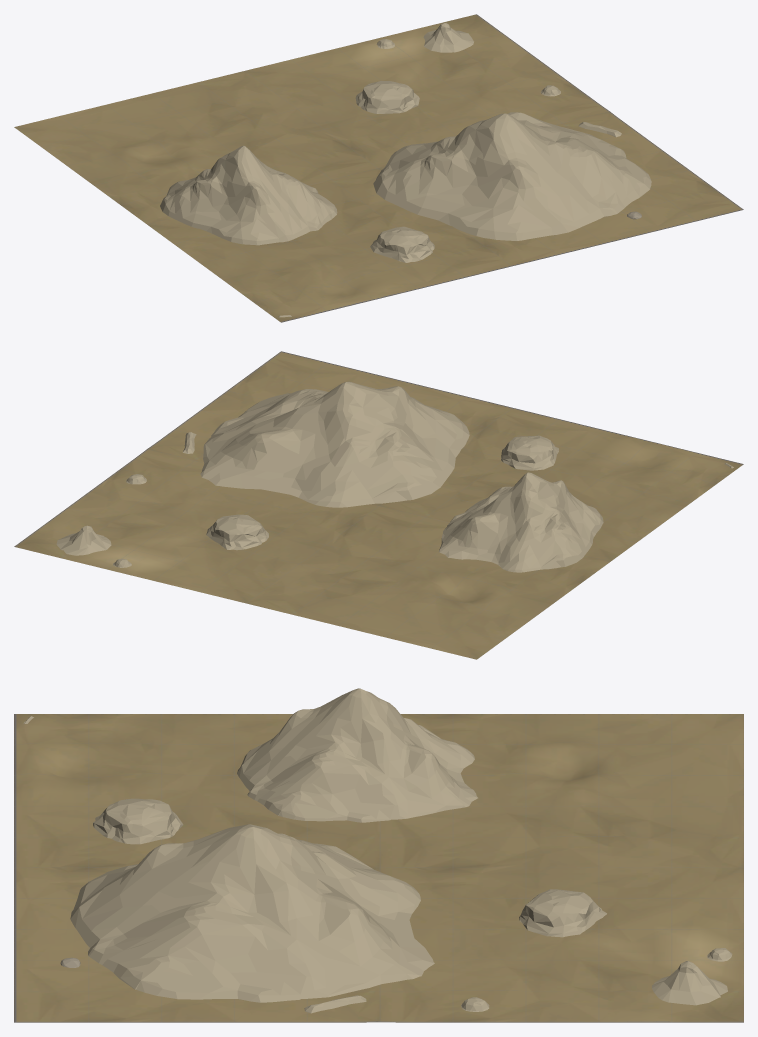
File: Desert_Stepable.fbx
The picture shows the model from 3 angles, top to bottom: view 1: azimuth 30°, elevation 25°; view 2: azimuth 150°, elevation 25°; view 3: azimuth 270°, elevation 25°; orthographic projection. The views are drawn at different scales.
Visible parts, largest first — view 1: Plane001, PolygonNature_04, PolygonNature_01, PolygonNature_04_1; view 2: Plane001, PolygonNature_04, PolygonNature_04_1, PolygonNature_01; view 3: Plane001, PolygonNature_04, PolygonNature_01, PolygonNature_04_1.
Boxes of the visible parts, left/top/right/bottom form: Plane001: left=14, top=14, right=743, bottom=322; PolygonNature_04: left=160, top=81, right=651, bottom=245; PolygonNature_01: left=278, top=23, right=641, bottom=317; PolygonNature_04_1: left=370, top=226, right=434, bottom=262; Plane001: left=14, top=351, right=743, bottom=659; PolygonNature_04: left=200, top=381, right=603, bottom=572; PolygonNature_04_1: left=501, top=435, right=558, bottom=470; PolygonNature_01: left=56, top=432, right=733, bottom=567; Plane001: left=14, top=714, right=743, bottom=1022; PolygonNature_04: left=70, top=688, right=606, bottom=1002; PolygonNature_01: left=23, top=716, right=732, bottom=1013; PolygonNature_04_1: left=93, top=798, right=183, bottom=844.
Bounding box in the file's own units: 96.52 × 15.04 × 96.52.
3 materials, 3 textured.
